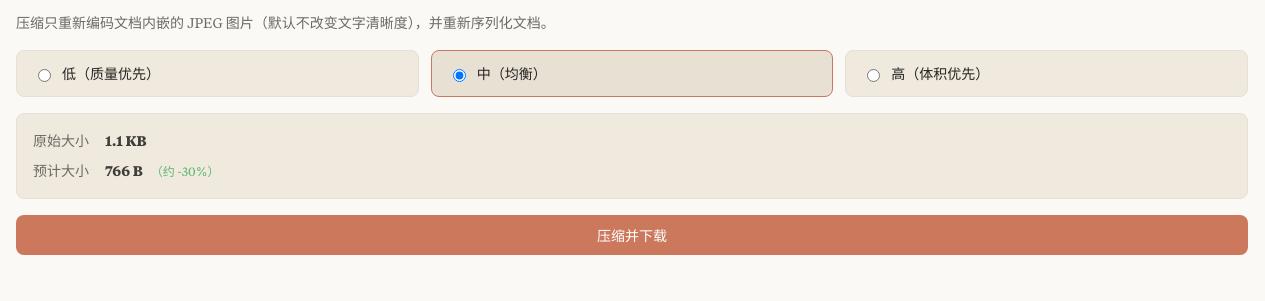
Test: PdfToolCompress › compresses and reports original / final sizes
Expected: the text "原始大小" is shown, top-left (33, 130), bottom-right (97, 152)
Expected: the text "预计大小" is shown, top-left (33, 160), bottom-right (97, 182)
Click the button "压缩并下载".
click(632, 235)  # box top-left (16, 215), bottom-right (1248, 255)
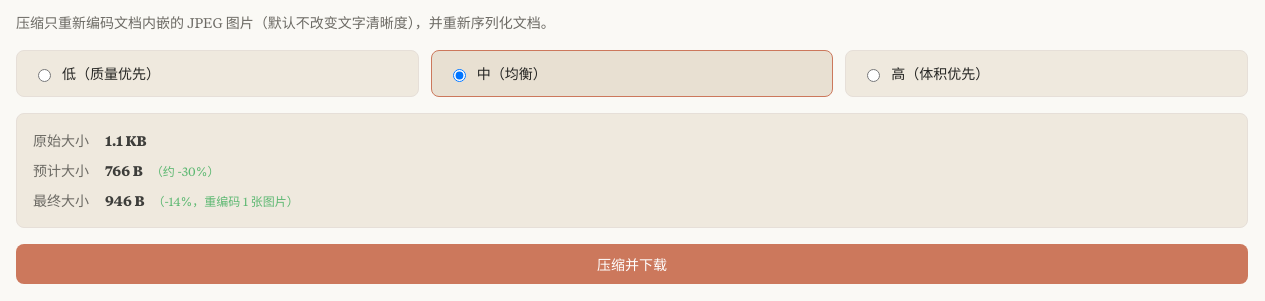
Expected: the text "最终大小" is shown, top-left (33, 190), bottom-right (97, 212)
